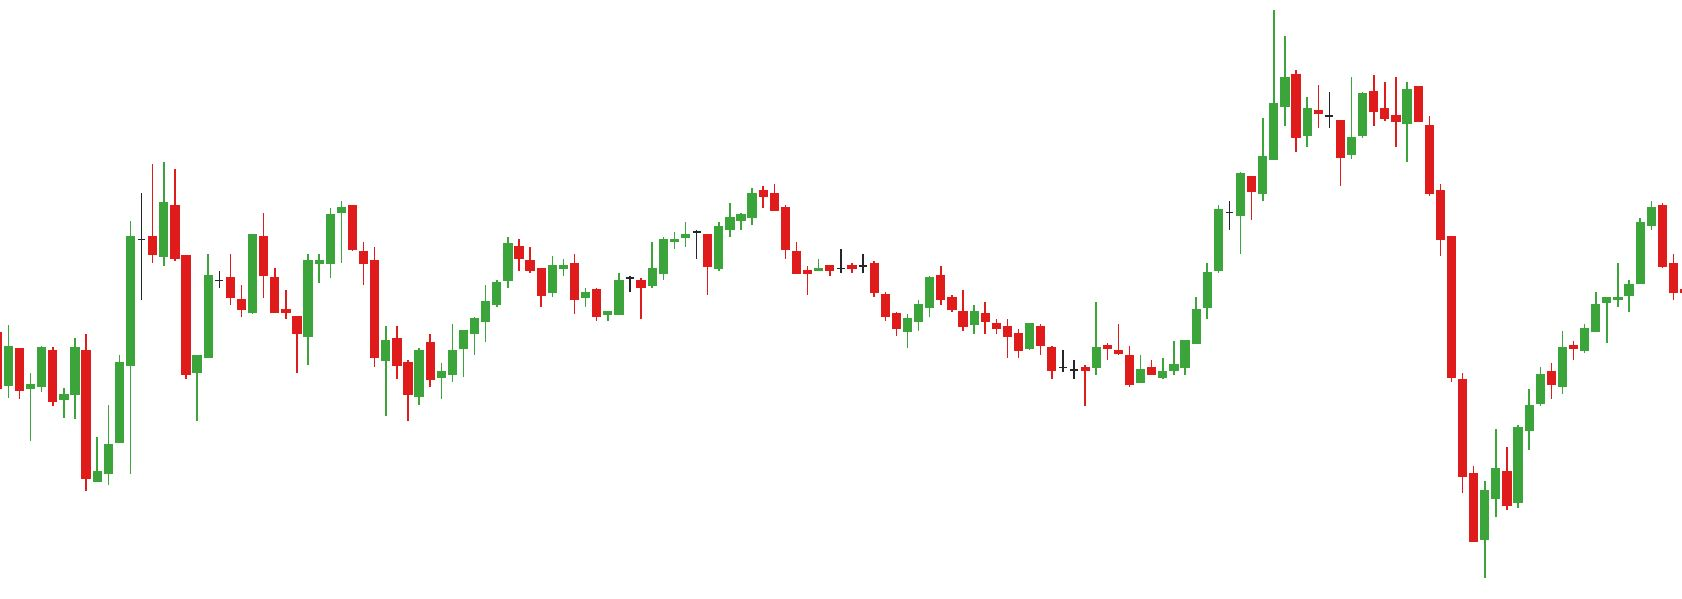buy: (287, 293, 392, 423)
sell: (257, 191, 359, 284)
